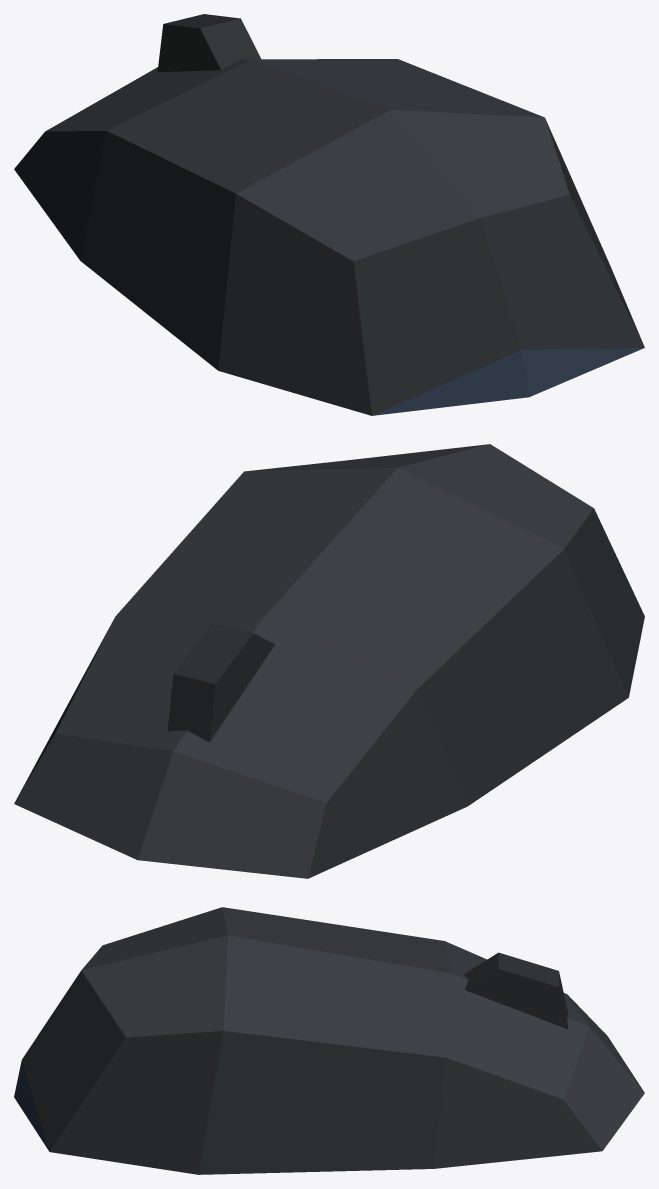
Rendered from SM_Prop_Computer_Mouse_02.obj.
3 views of the same model, one above another, from view 1: azimuth 30°, elevation 25°; view 2: azimuth 150°, elevation 25°; view 3: azimuth 270°, elevation 25° (orthographic). The views are drawn at different scales.
Parts seen in each view (by area): view 1: SM_Prop_Computer_Mouse_02_0; view 2: SM_Prop_Computer_Mouse_02_0; view 3: SM_Prop_Computer_Mouse_02_0.
Part boxes in pixels (bbox=[...]): SM_Prop_Computer_Mouse_02_0: bbox=[14, 14, 644, 415]; SM_Prop_Computer_Mouse_02_0: bbox=[14, 444, 644, 878]; SM_Prop_Computer_Mouse_02_0: bbox=[14, 907, 644, 1174].
Size of the model in its own units: 0.0903 by 0.0417 by 0.1504.
Materials: 1 (1 with a texture image).
